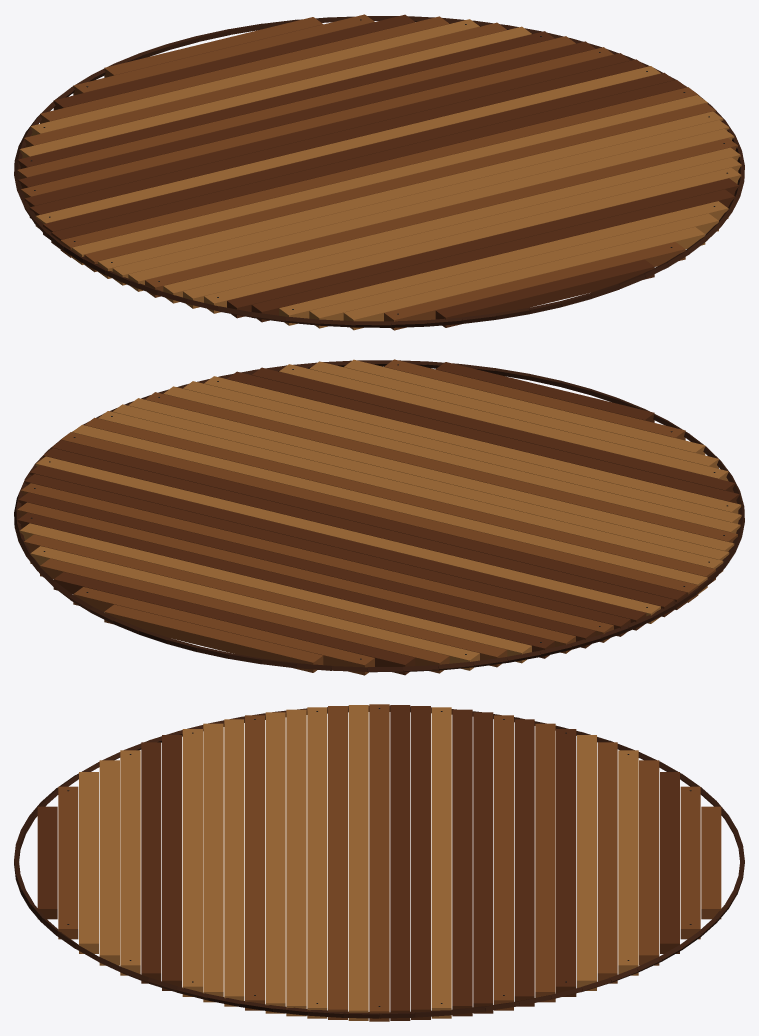
Rendered from circular-stage.glb.
3 renders of one model, top to bottom at view 1: azimuth 30°, elevation 25°; view 2: azimuth 150°, elevation 25°; view 3: azimuth 270°, elevation 25°, orthographic.
Visible parts, largest first — view 1: CircularStageMesh; view 2: CircularStageMesh; view 3: CircularStageMesh.
Boxes of the visible parts, box(x1,y1,x2,y2) form: CircularStageMesh: box(14, 14, 744, 330); CircularStageMesh: box(14, 359, 744, 675); CircularStageMesh: box(14, 704, 744, 1021).
Size of what is drawn, in the model's own units: 28.19 by 0.4605 by 28.19.
1 material, 1 textured.
